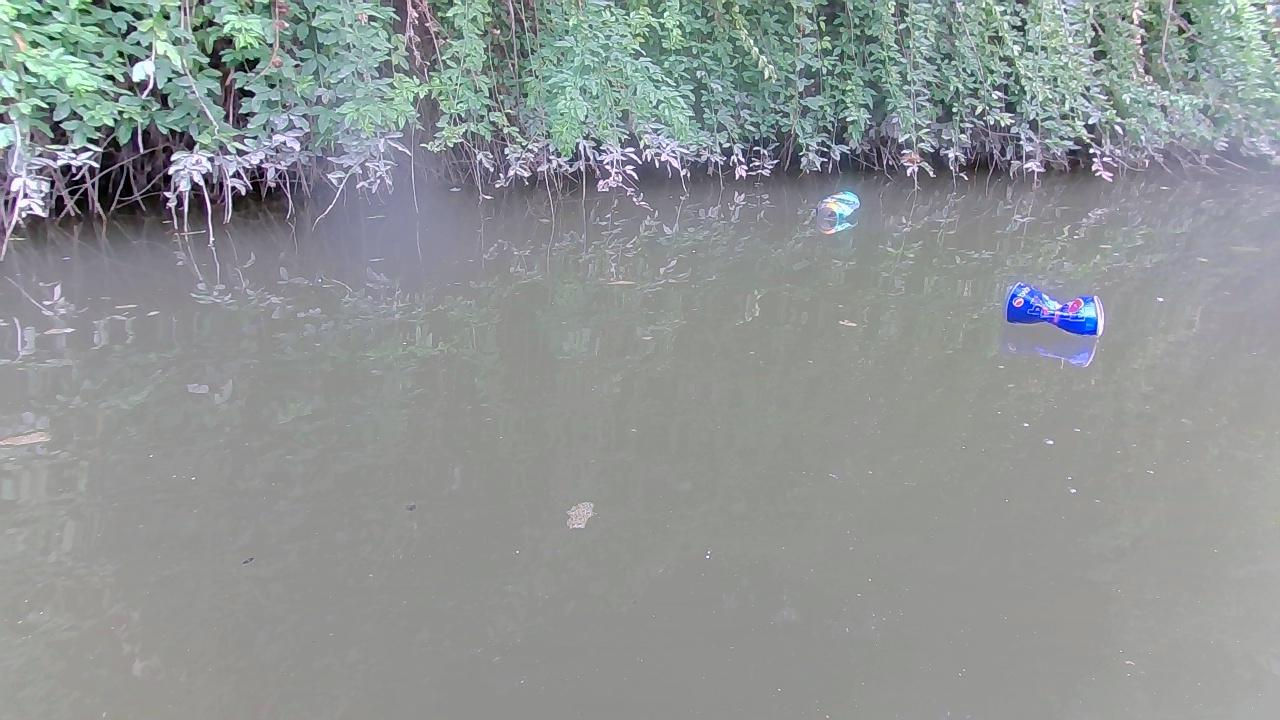Metal: (1003, 282, 1108, 338), (811, 183, 867, 230)
